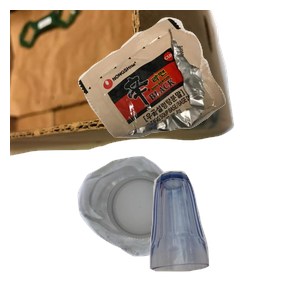cardboard: (10, 10, 237, 158)
glass: (147, 168, 300, 300)
plastic: (75, 154, 248, 300)
trash: (76, 15, 300, 145)
